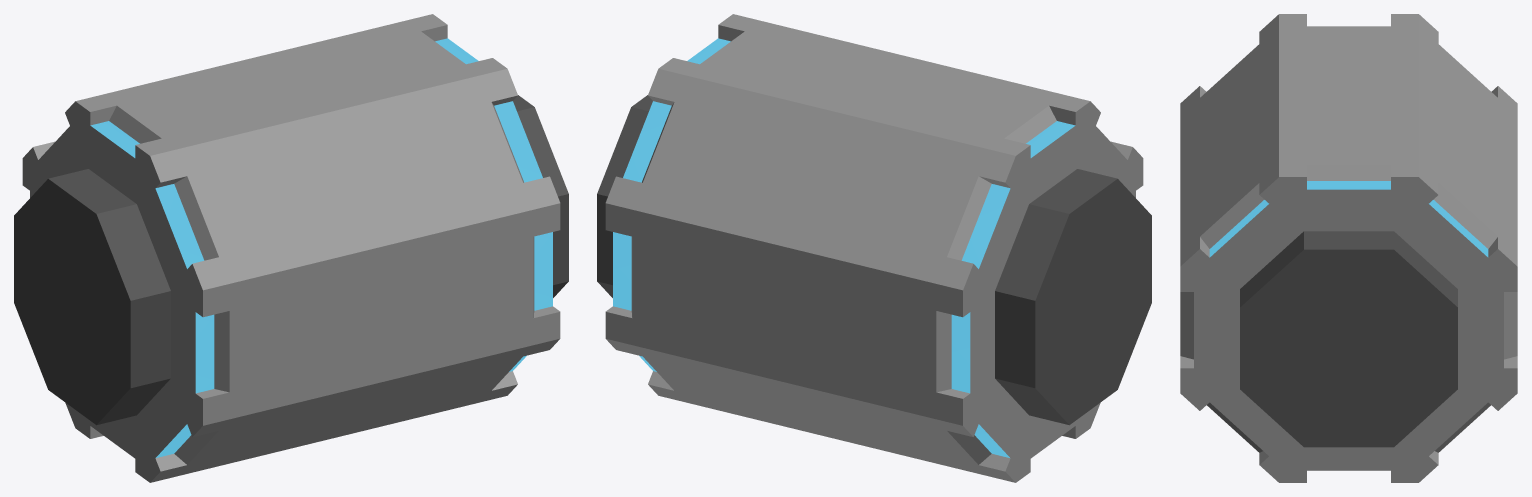
File: SM_REV01_Cylinder.fbx
3 renders of one model, left to right at view 1: azimuth 30°, elevation 25°; view 2: azimuth 150°, elevation 25°; view 3: azimuth 270°, elevation 25°, orthographic. The views are drawn at different scales.
Parts seen in each view (by area): view 1: SM_REV01_Cylinder; view 2: SM_REV01_Cylinder; view 3: SM_REV01_Cylinder.
Boxes of the visible parts, <box> form: SM_REV01_Cylinder: <box>14,14,568,482</box>; SM_REV01_Cylinder: <box>597,14,1151,482</box>; SM_REV01_Cylinder: <box>1180,14,1517,482</box>.
Bounding box in the file's own units: 6.76 × 4.82 × 4.82.
